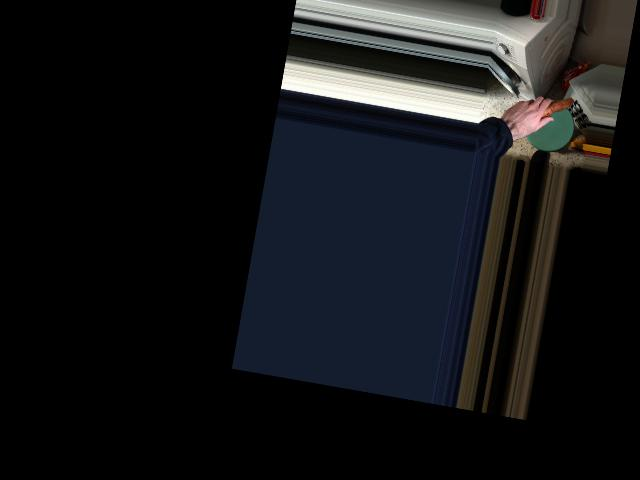sweet_potato: (515, 88, 572, 135)
